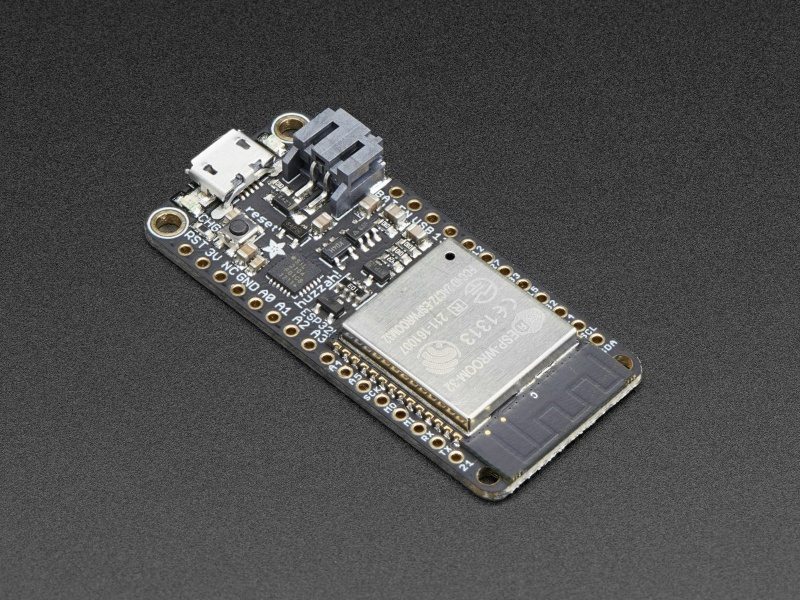esp32: (131, 95, 658, 503)
